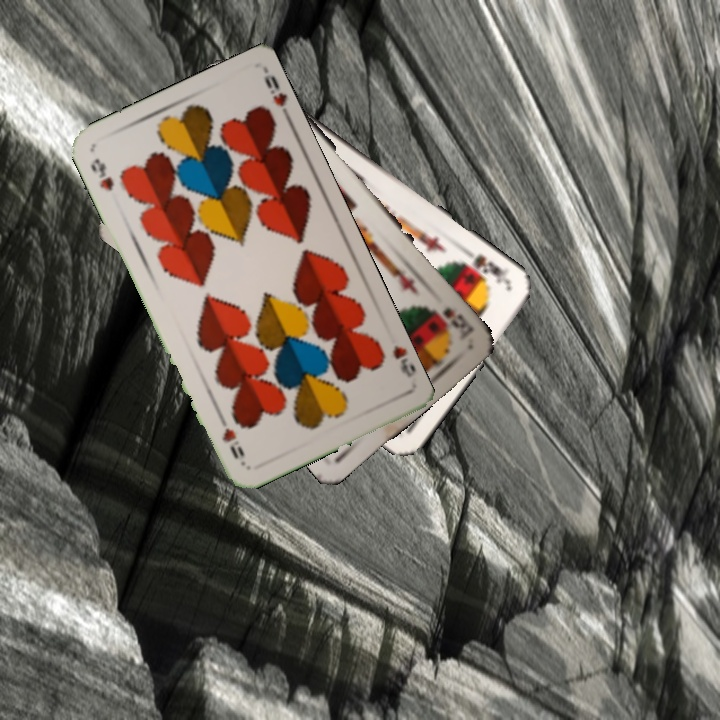H9: (86, 154, 117, 193), (388, 341, 417, 380)
SK: (456, 245, 513, 292), (439, 302, 477, 343)
